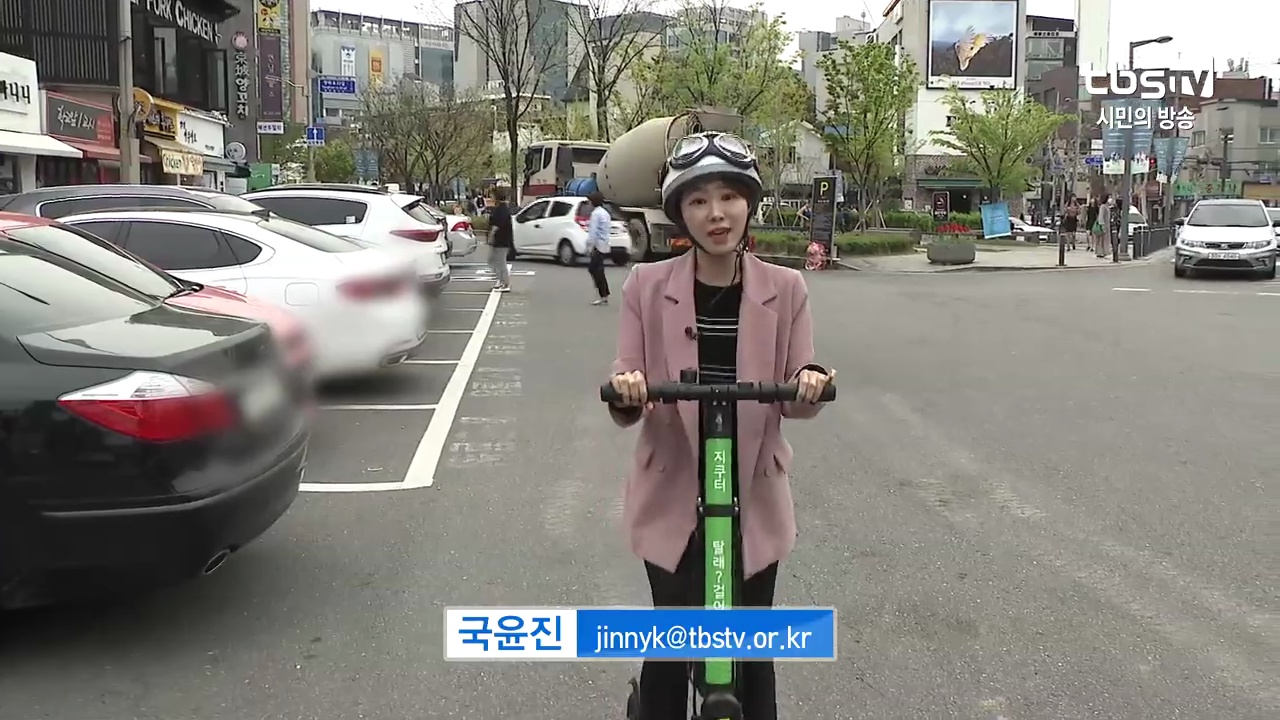helmet: (596, 133, 839, 720)
